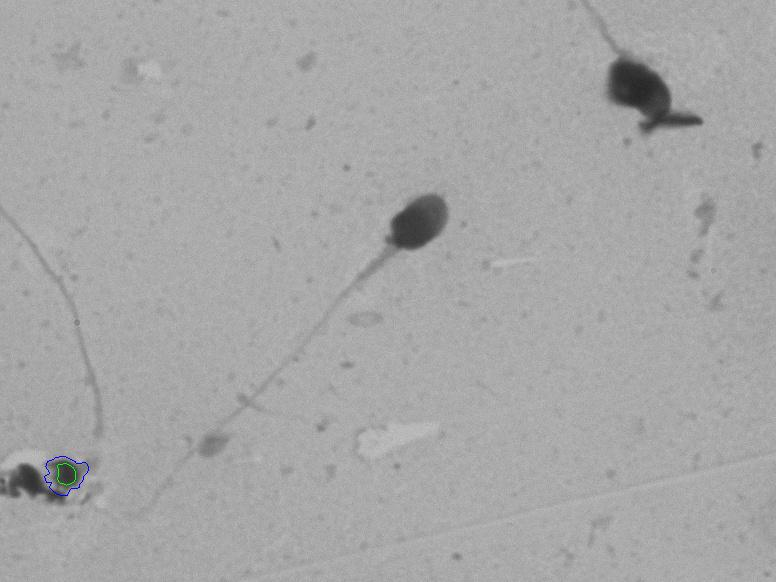Abnormal: (158, 144, 476, 534)
